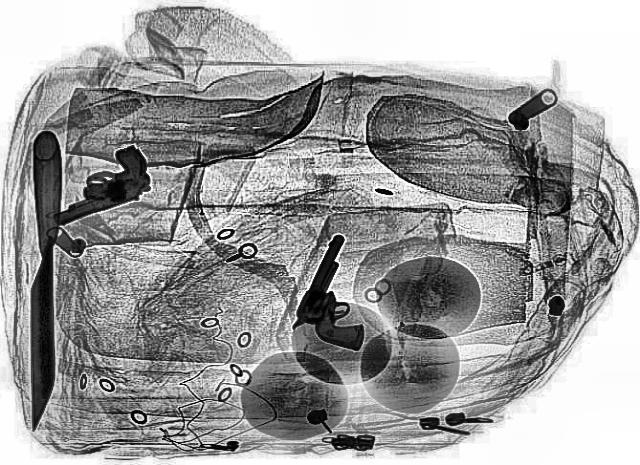Gun: (281, 232, 405, 352), (23, 143, 169, 225)
Knife: (29, 130, 61, 430)
